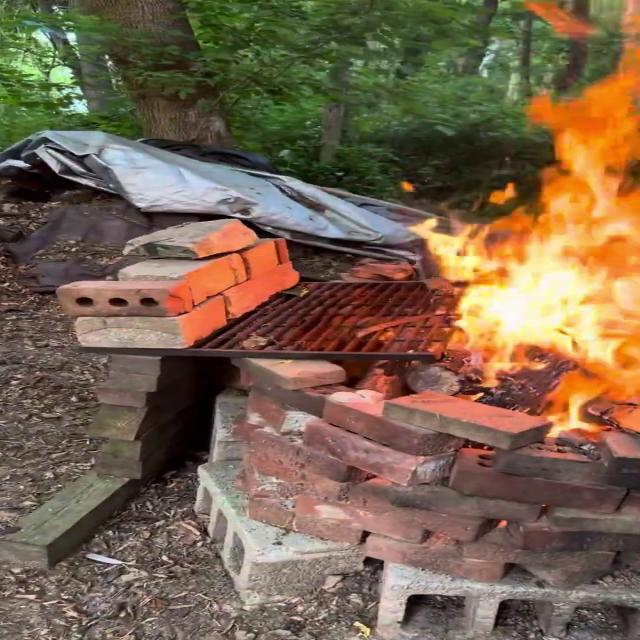Fire: (397, 0, 640, 436)
